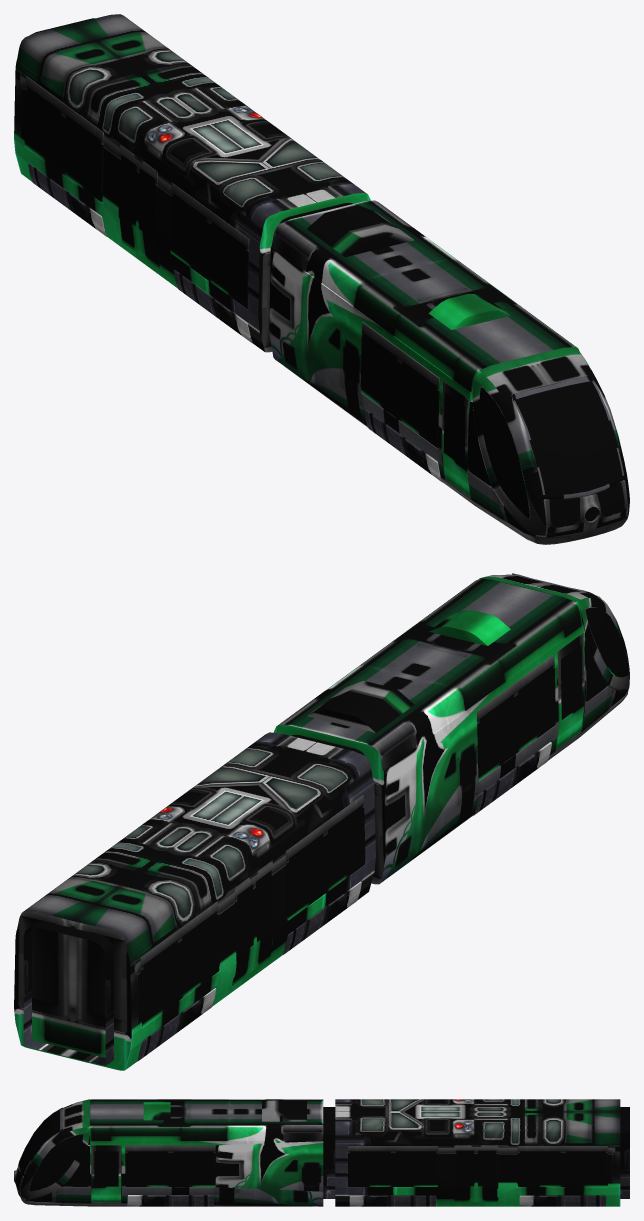
File: Train_3_Model.fbx
The picture shows the model from 3 angles, top to bottom: view 1: azimuth 30°, elevation 25°; view 2: azimuth 150°, elevation 25°; view 3: azimuth 270°, elevation 25°; orthographic projection. The views are drawn at different scales.
Parts seen in each view (by area): view 1: Train_Engine, compartment, Door3, Door2; view 2: compartment, Train_Engine, Door2, Door3; view 3: Train_Engine, compartment, Door, Door1.
Boxes of the visible parts, left/top/right/bottom form: Train_Engine: left=269, top=200, right=629, bottom=544; compartment: left=14, top=14, right=370, bottom=352; Door3: left=137, top=158, right=160, bottom=269; Door2: left=118, top=144, right=140, bottom=255; compartment: left=14, top=732, right=375, bottom=1070; Train_Engine: left=274, top=573, right=629, bottom=884; Door2: left=232, top=874, right=255, bottom=985; Door3: left=251, top=860, right=273, bottom=971; Train_Engine: left=14, top=1099, right=335, bottom=1206; compartment: left=335, top=1099, right=629, bottom=1206; Door: left=454, top=1145, right=476, bottom=1202; Door1: left=476, top=1145, right=498, bottom=1202.
Size of the model in its own units: 41.47 by 49.93 by 319.
